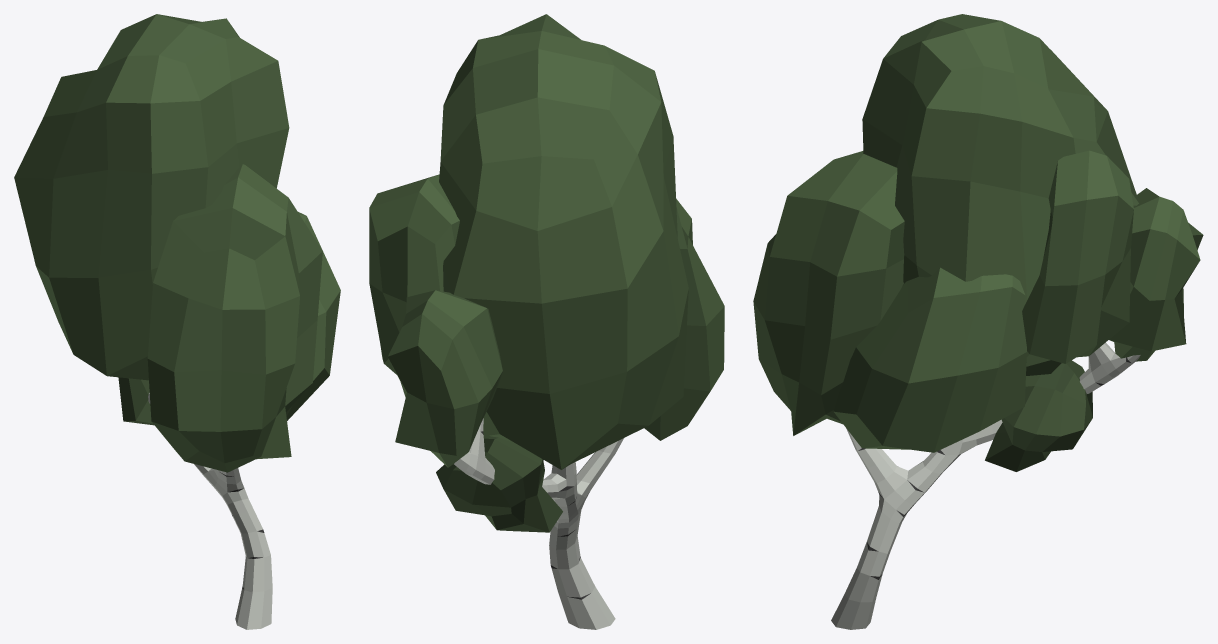
3 views of the same model, side by side, from view 1: azimuth 30°, elevation 25°; view 2: azimuth 150°, elevation 25°; view 3: azimuth 270°, elevation 25° (orthographic). The views are drawn at different scales.
Visible parts, largest first — view 1: BirchTree_1; view 2: BirchTree_1; view 3: BirchTree_1.
Boxes of the visible parts, bbox=[...] form: BirchTree_1: bbox=[14, 14, 340, 629]; BirchTree_1: bbox=[369, 14, 724, 629]; BirchTree_1: bbox=[753, 14, 1203, 629].
Bounding box in the file's own units: 1.7 × 3.57 × 2.48.
